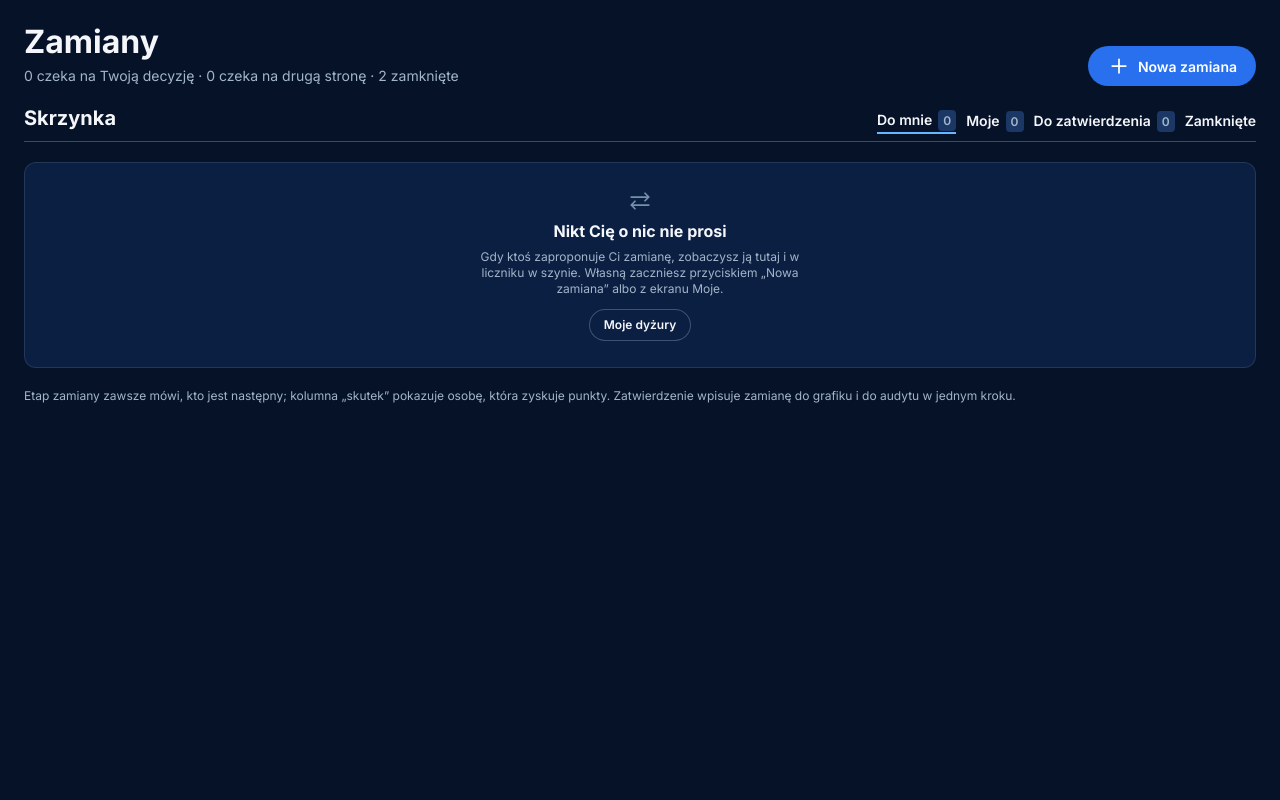
Test: SwapPanel inbox › keeps settled requests under "Zamknięte" with no decisions left
Check: the text "Nikt Cię o nic nie prosi" is shown, box top-left (554, 219), bottom-right (726, 243)
Click the button "Zamknięte".
click(1220, 122)  # box top-left (1185, 110), bottom-right (1256, 134)
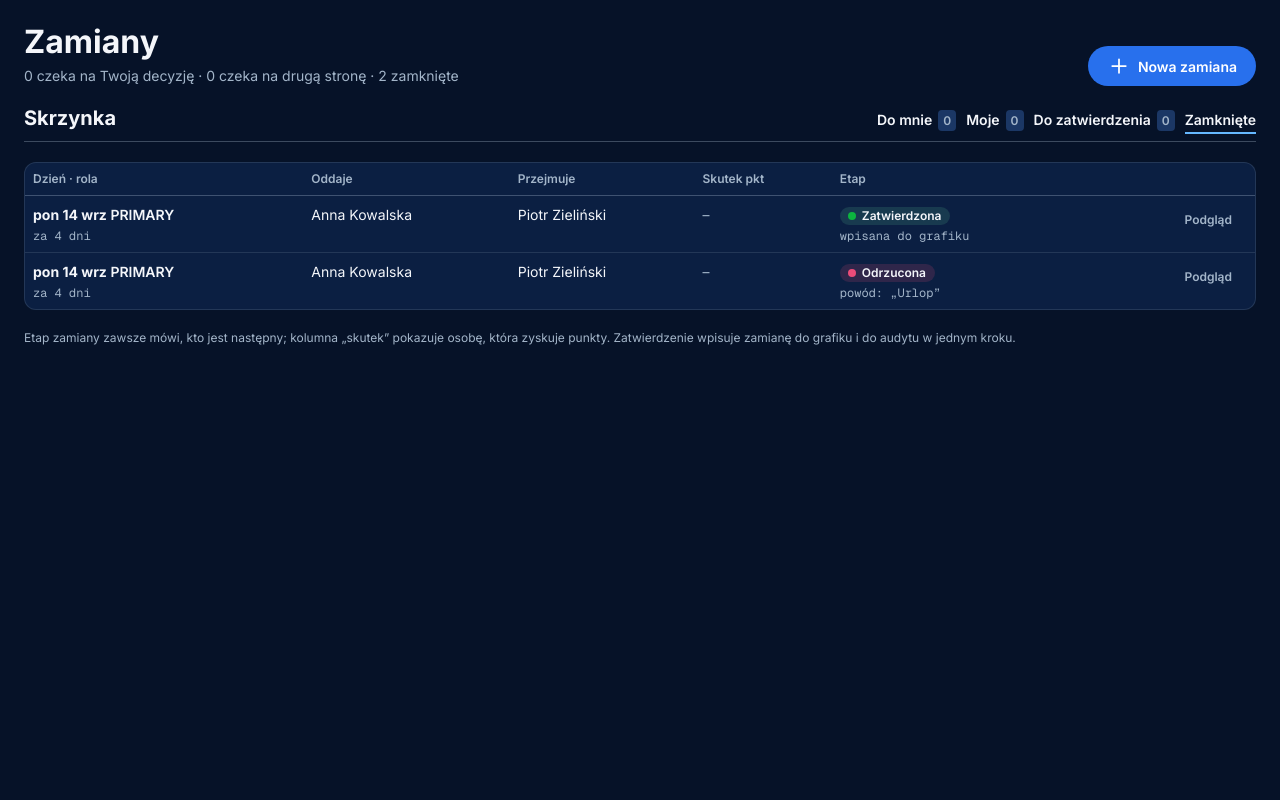
Check: the text "Zatwierdzona" is shown, box top-left (840, 206), bottom-right (950, 224)
Check: the text "Odrzucona" is shown, box top-left (840, 264), bottom-right (935, 282)
Check: the text "powód: „Urlop”" is shown, box top-left (840, 284), bottom-right (941, 300)
Click the button "Podgląd" in the row of "Zatwierdzona".
click(1208, 220)  # box top-left (1170, 204), bottom-right (1247, 236)
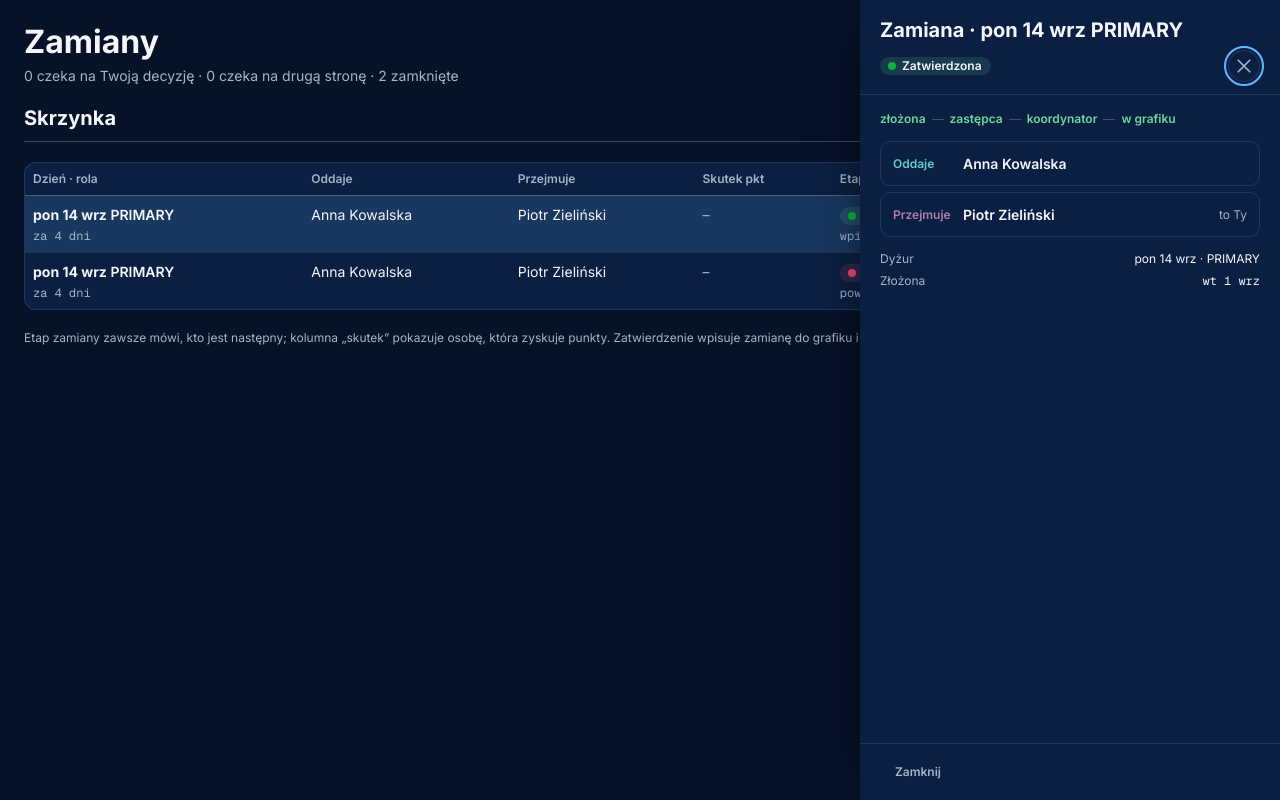
Check: the button "Zamknij" is shown, box top-left (880, 756), bottom-right (956, 788)
